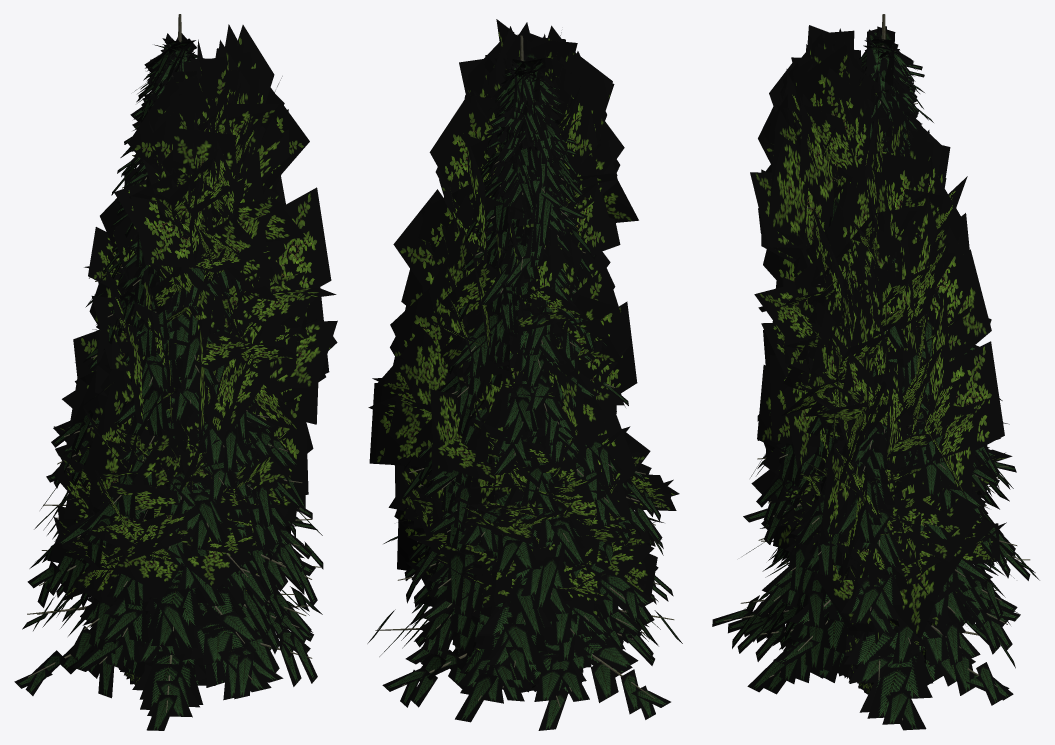
Rendered from vegetation.glb.
3 views of the same model, side by side, from view 1: azimuth 30°, elevation 25°; view 2: azimuth 150°, elevation 25°; view 3: azimuth 270°, elevation 25° (orthographic). The views are drawn at different scales.
Visible parts, largest first — view 1: AvenueTree, Conifer, RoundedTree; view 2: Conifer, AvenueTree, RoundedTree; view 3: AvenueTree, Conifer, RoundedTree, GableShrub.
Boxes of the visible parts, <box> form: AvenueTree: <box>66,24,337,613</box>; Conifer: <box>14,14,323,730</box>; RoundedTree: <box>47,391,295,606</box>; Conifer: <box>367,35,682,730</box>; AvenueTree: <box>368,19,638,623</box>; RoundedTree: <box>388,401,679,636</box>; AvenueTree: <box>750,25,1009,644</box>; Conifer: <box>712,14,1039,730</box>; RoundedTree: <box>751,398,1012,630</box>; GableShrub: <box>837,619,936,685</box>.
Size of the model in its own units: 5.6 by 12 by 5.4.
Materials: 3 (3 with a texture image).
